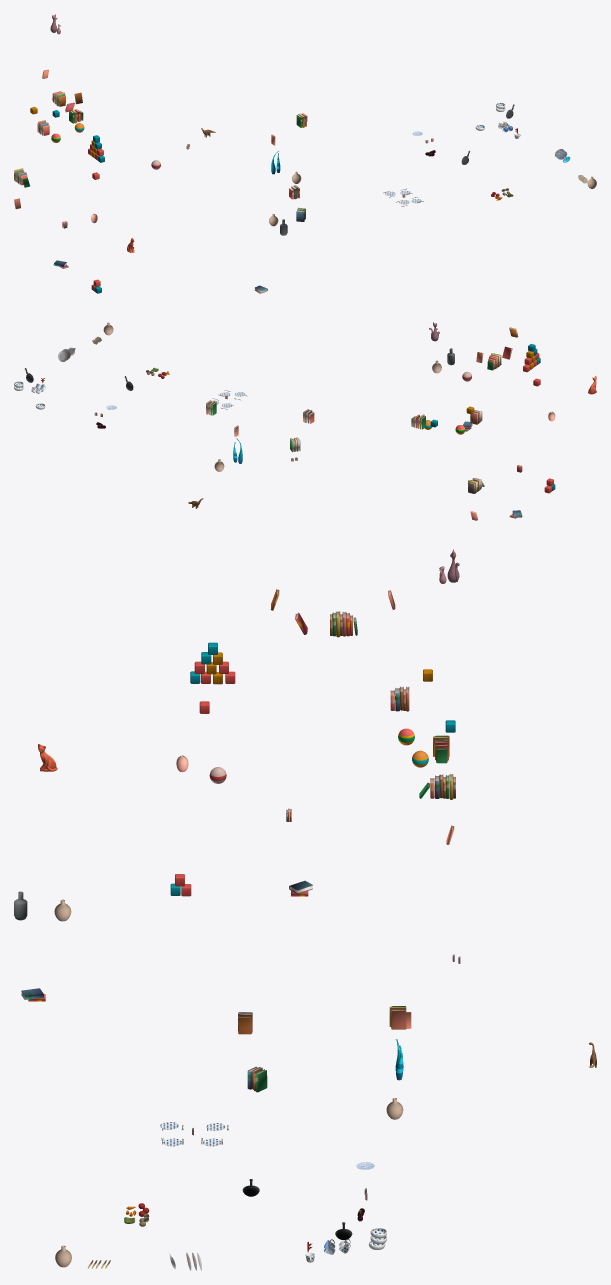
The model's file is props.glb.
3 views of the same model, one above another, from view 1: azimuth 30°, elevation 25°; view 2: azimuth 150°, elevation 25°; view 3: azimuth 270°, elevation 25° (orthographic). The views are drawn at different scales.
Size of the model in its own units: 14.63 by 6.16 by 8.71.
Materials: 5 (5 with a texture image).
